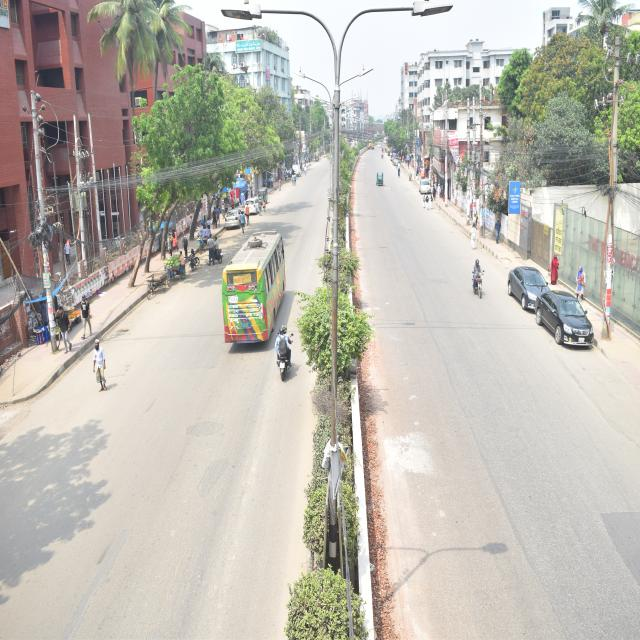bus: (208, 207, 306, 343)
car: (522, 269, 612, 380), (499, 249, 564, 308), (212, 204, 260, 240), (416, 174, 448, 214), (240, 188, 272, 220)
motorbike: (271, 318, 316, 418), (465, 236, 492, 320), (174, 242, 210, 276), (195, 228, 228, 262), (378, 145, 386, 168)
pickup-van: (290, 157, 304, 177)
